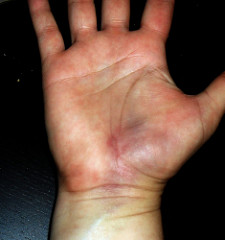palm: (24, 39, 194, 187)
